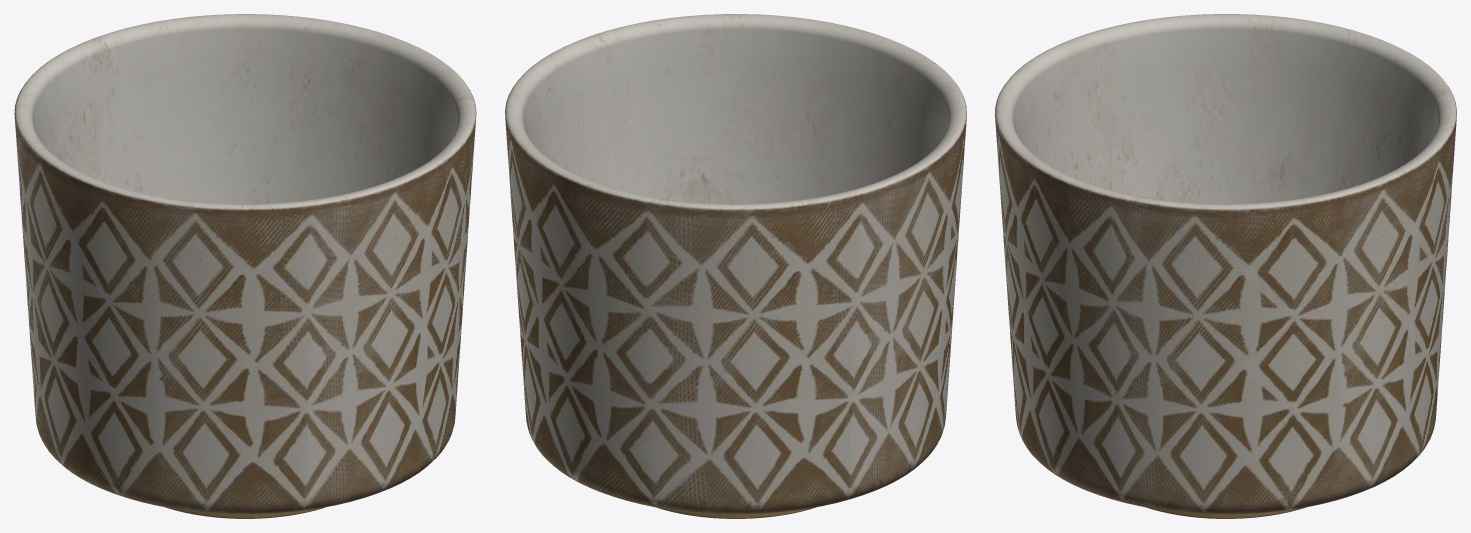
Rendered from abo-B0842HBF31.glb.
3 views of the same model, side by side, from view 1: azimuth 30°, elevation 25°; view 2: azimuth 150°, elevation 25°; view 3: azimuth 270°, elevation 25° (orthographic).
Bounding box in the file's own units: 0.26 × 0.22 × 0.26.
Materials: 1 (1 with a texture image).
